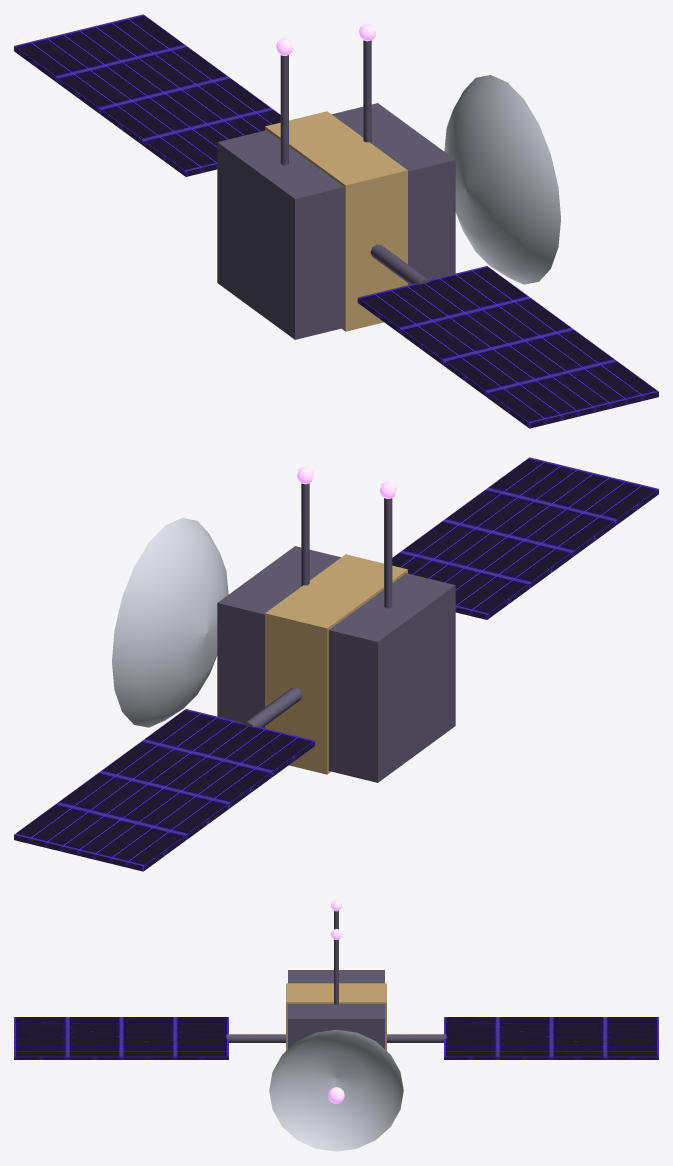
The model's file is gen-satellite.glb.
3 renders of one model, top to bottom at view 1: azimuth 30°, elevation 25°; view 2: azimuth 150°, elevation 25°; view 3: azimuth 270°, elevation 25°, orthographic. The views are drawn at different scales.
Parts seen in each view (by area): view 1: glint-satellite; view 2: glint-satellite; view 3: glint-satellite.
Part boxes in pixels (x1,y1,x2,y2): glint-satellite: [14, 14, 658, 428]; glint-satellite: [14, 457, 658, 871]; glint-satellite: [14, 900, 658, 1151].
Size of the model in its own units: 1.08 by 1.08 by 3.45.
5 materials, 1 textured.
